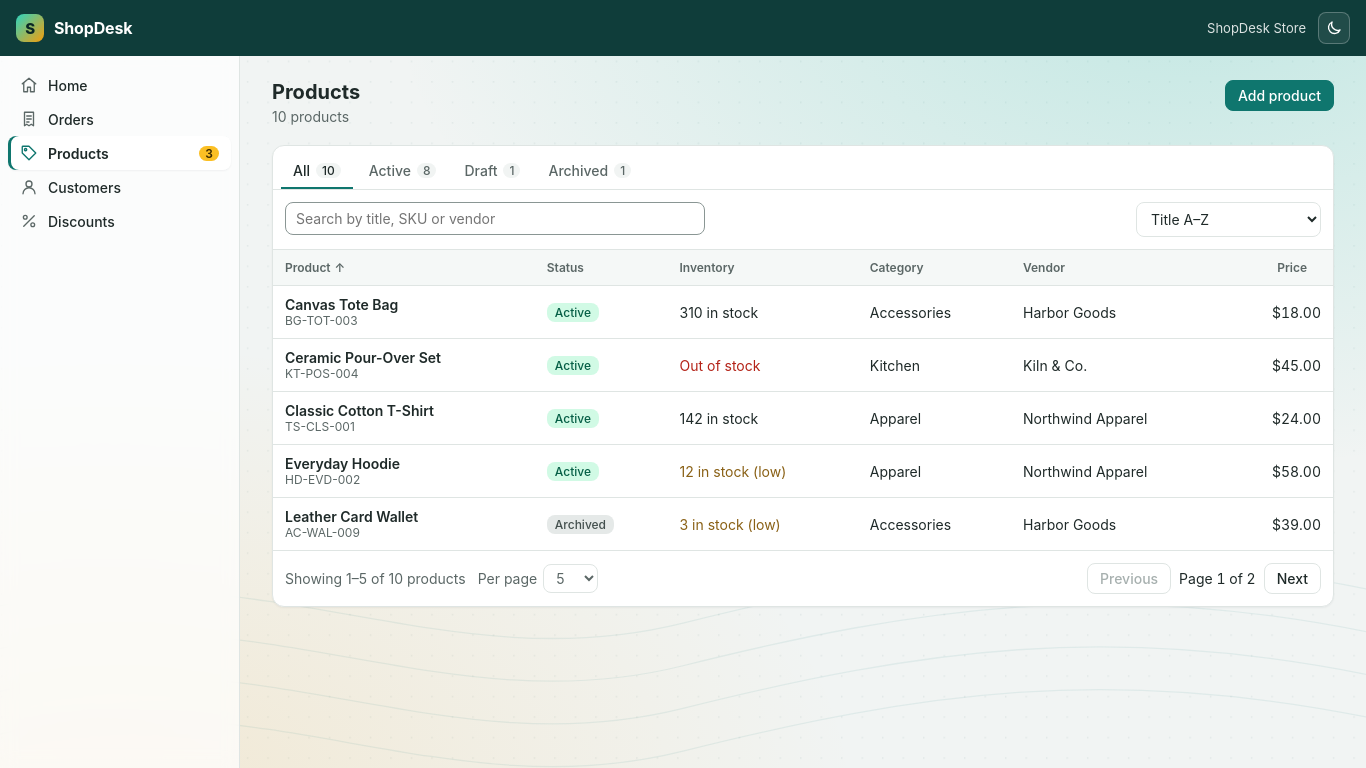
Test: ProductsPage › search › clears the search with the clear button
The image size is (1366, 768).
Type "bicycle" into the search field named "Search products" at (495, 218), box [285,202,705,235]
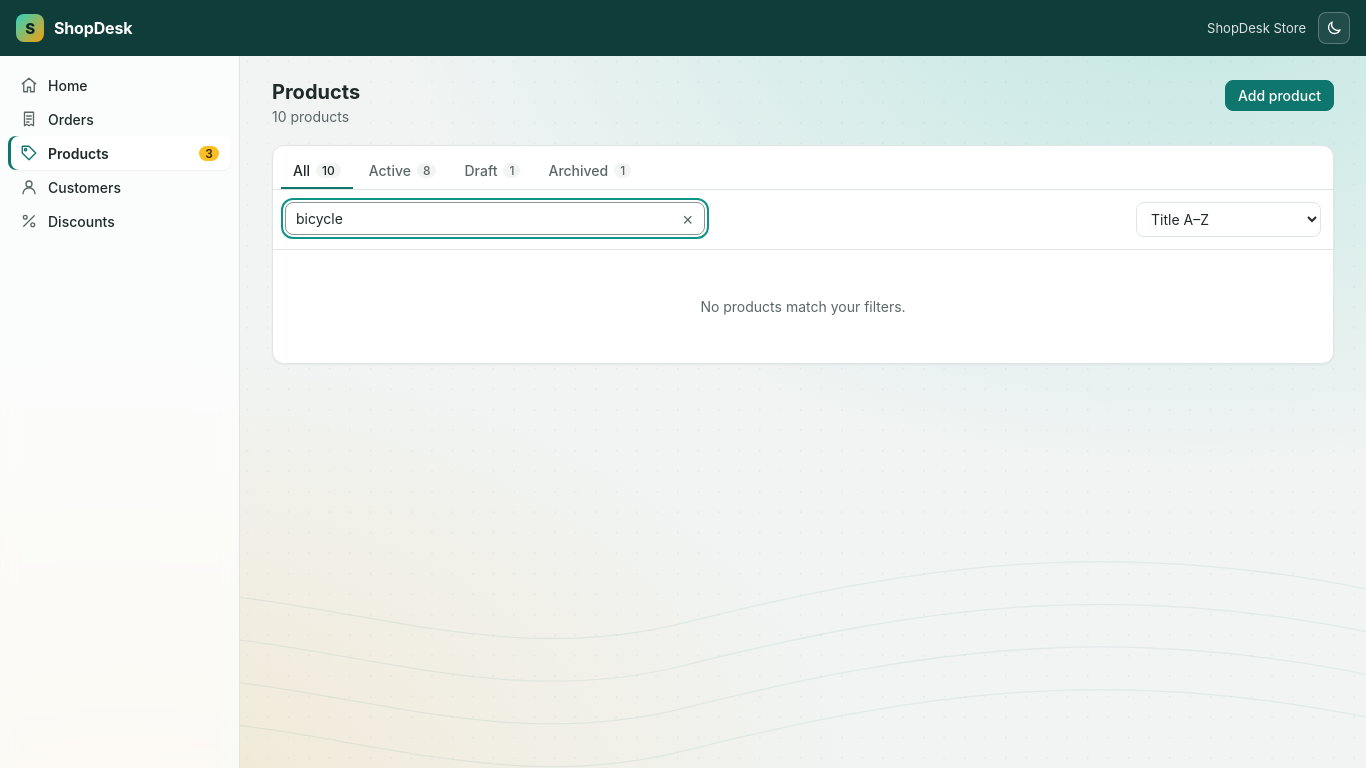
Click the button named "Clear search" at (688, 220), box [676,210,699,230]
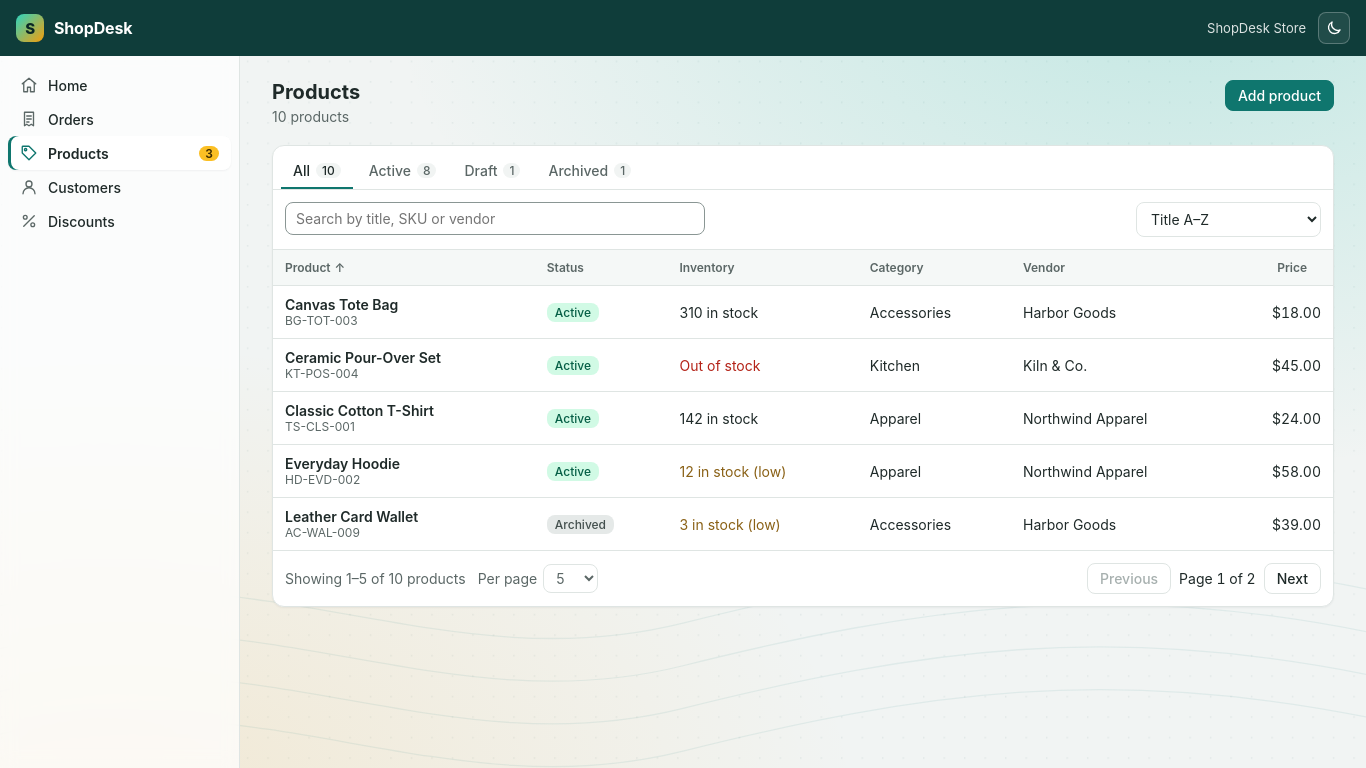
Expected: the search field named "Search products" is empty, [285,202,705,235]
Expected: the text "Showing 1–5 of 10 products" is shown, [285,570,466,587]
